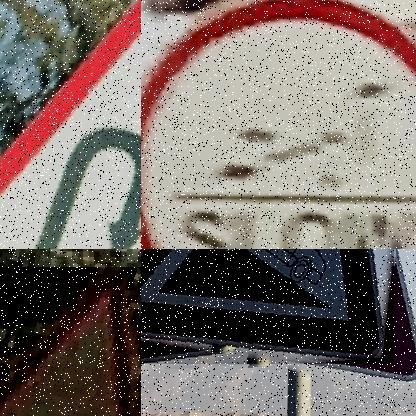Speed Breaker Ahead: (0, 267, 140, 416)
Steep Descent: (141, 249, 393, 364)
U-Turn: (0, 0, 141, 249)
